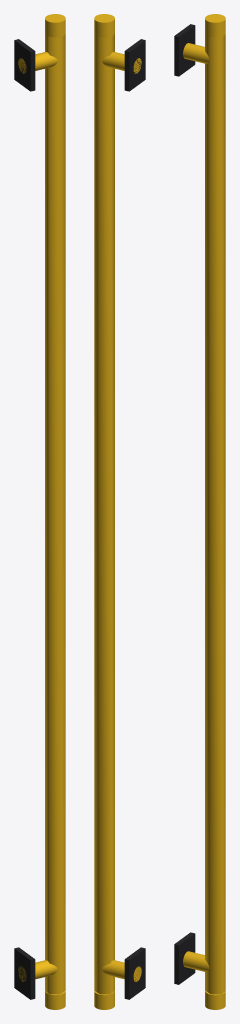
File: struct03_ladder_handrail_handrail_2.glb
3 views of the same model, side by side, from view 1: azimuth 30°, elevation 25°; view 2: azimuth 150°, elevation 25°; view 3: azimuth 330°, elevation 25° (orthographic).
Parts seen in each view (by area): view 1: handrail, mount_pads, standoffs; view 2: handrail, mount_pads, standoffs; view 3: handrail, mount_pads, standoffs.
Part boxes in pixels (x1,y1,x2,y2): handrail: (45, 14, 65, 1009); mount_pads: (14, 39, 35, 999); standoffs: (18, 52, 57, 981); handrail: (94, 14, 114, 1009); mount_pads: (124, 39, 145, 999); standoffs: (102, 52, 141, 981); handrail: (205, 14, 225, 1009); mount_pads: (174, 24, 195, 984); standoffs: (183, 43, 209, 971).
Bounding box in the file's own units: 0.089 × 2 × 0.06.
